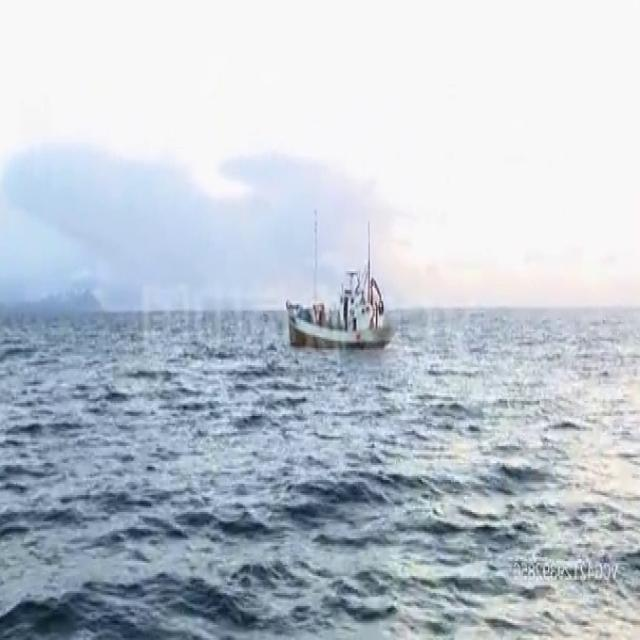fishing boat: (286, 222, 401, 350)
